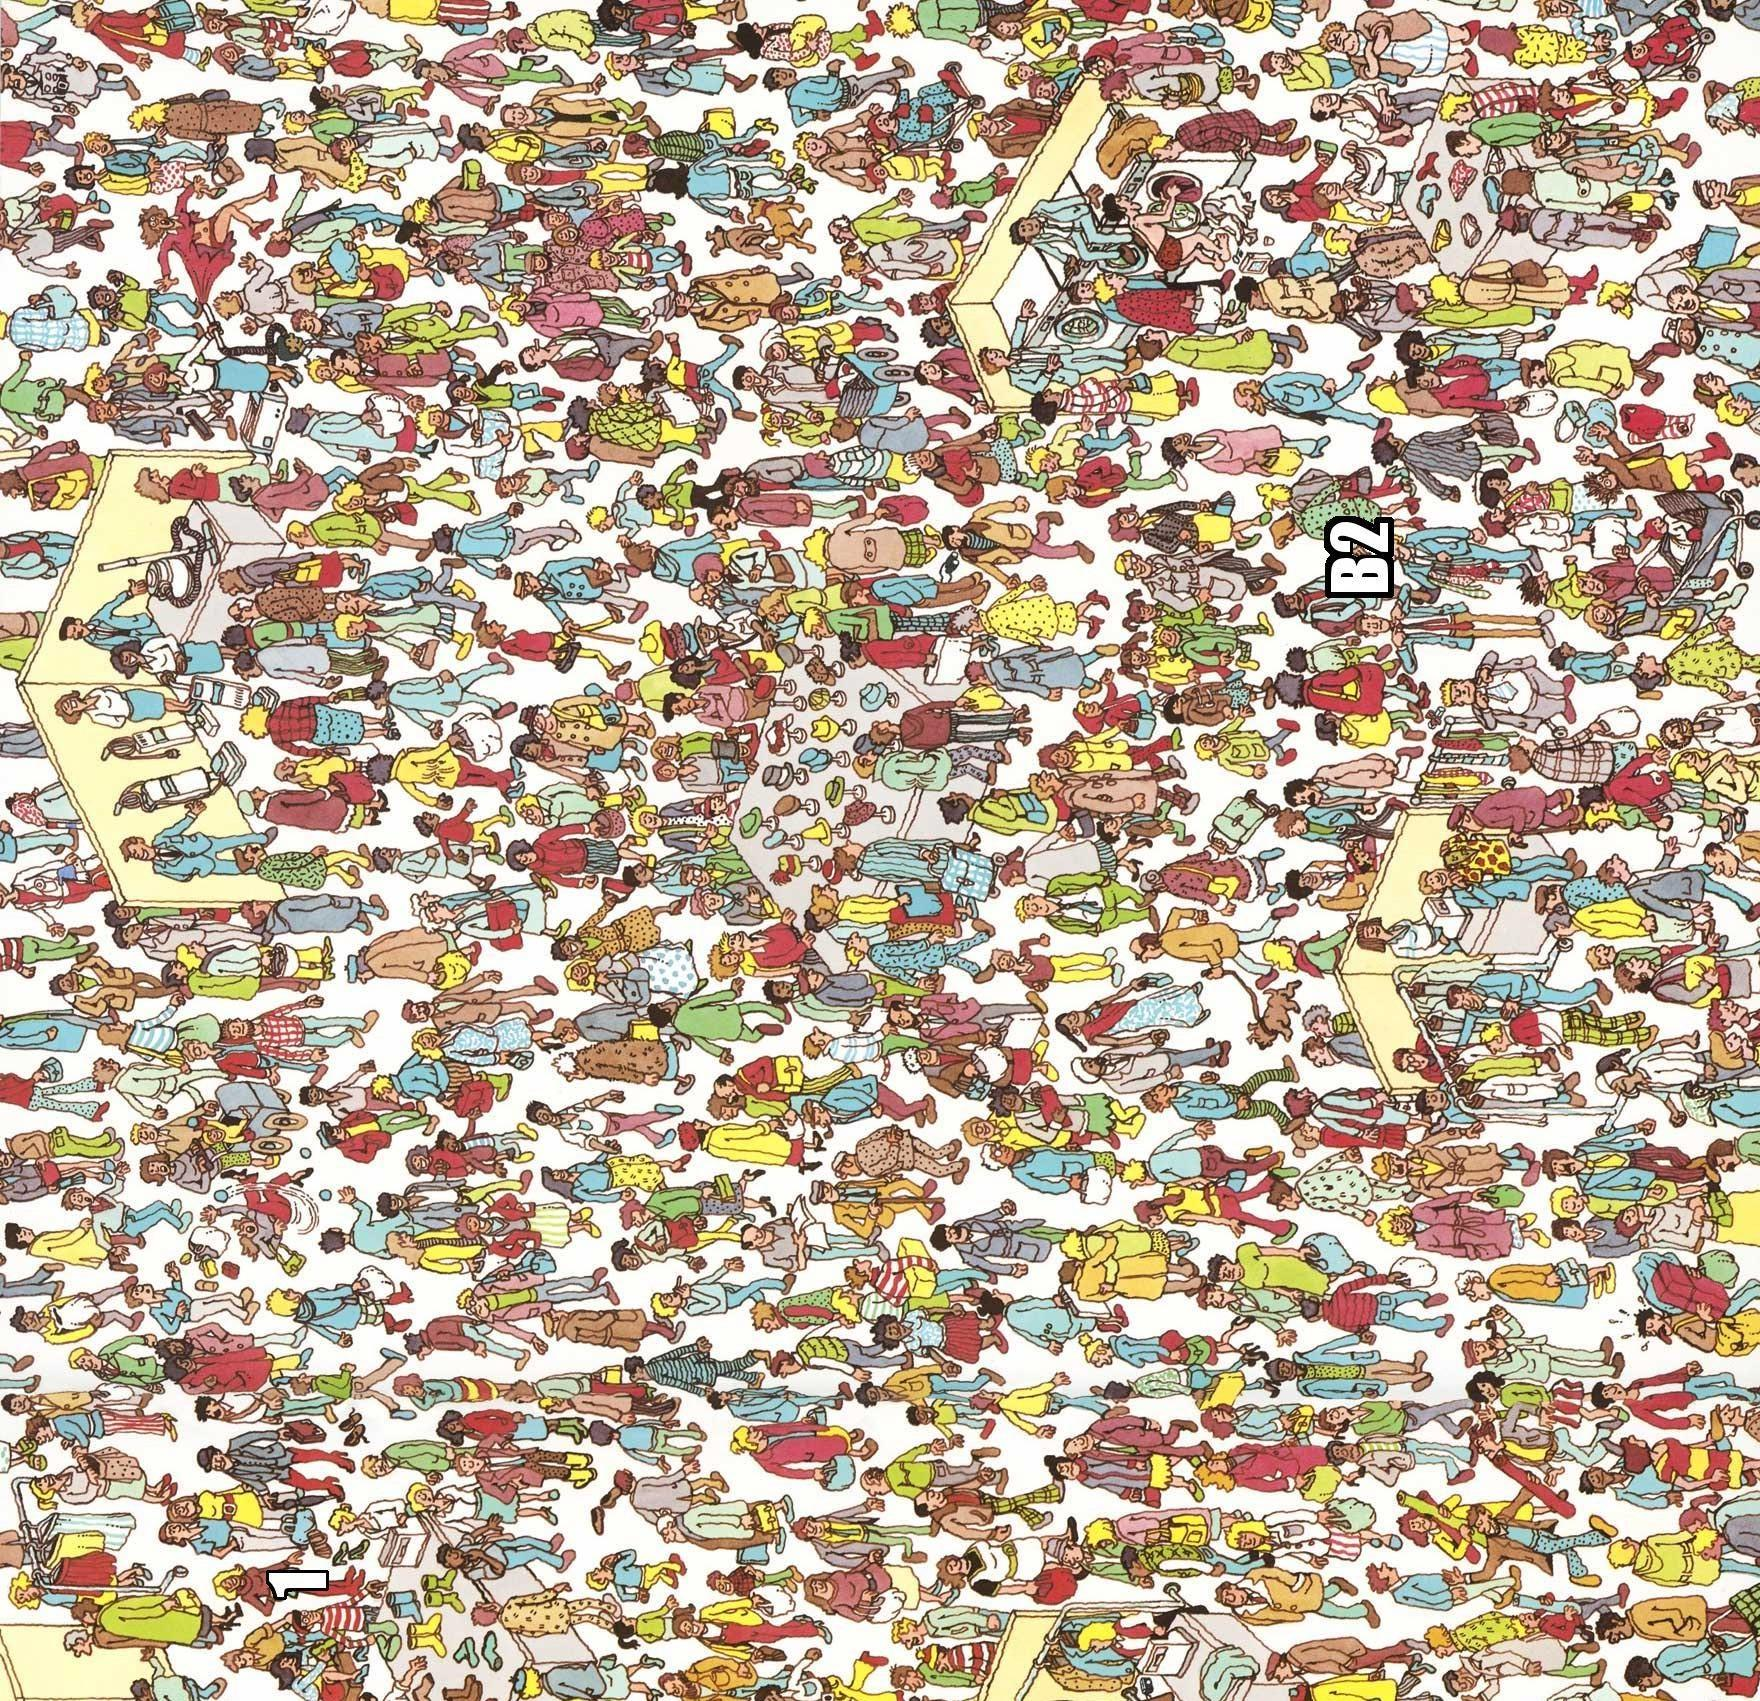waldos: (286, 1578, 382, 1649)
